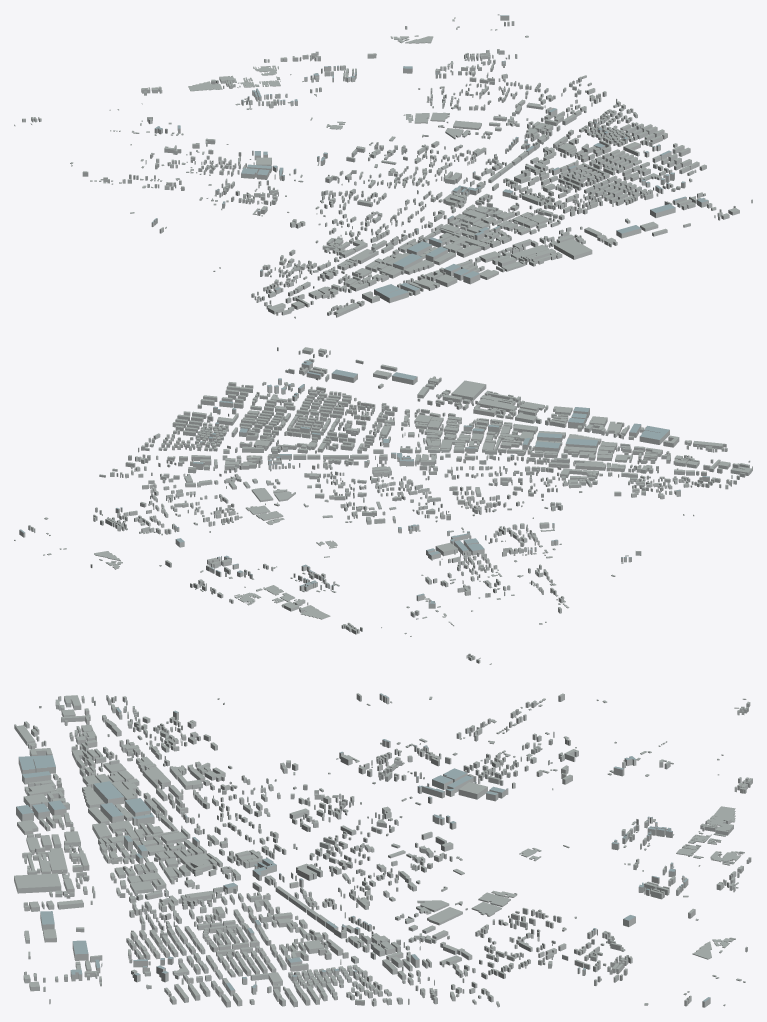
File: far.glb
The picture shows the model from 3 angles, top to bottom: view 1: azimuth 30°, elevation 25°; view 2: azimuth 150°, elevation 25°; view 3: azimuth 270°, elevation 25°; orthographic projection. The views are drawn at different scales.
Bounding box in the file's own units: 2120 × 29.88 × 2133.
